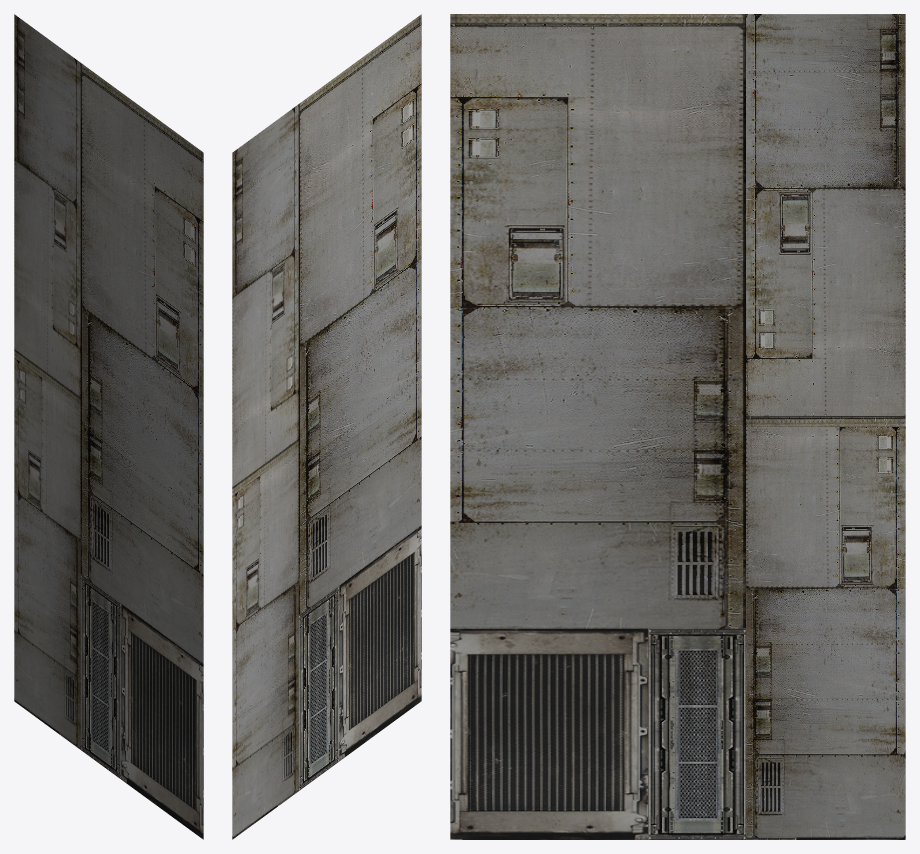
The model's file is Wall_J_Giant10mts_03.fbx.
3 renders of one model, left to right at view 1: azimuth 30°, elevation 25°; view 2: azimuth 150°, elevation 25°; view 3: azimuth 270°, elevation 25°, orthographic. The views are drawn at different scales.
Parts seen in each view (by area): view 1: Wall_J_Giant10mts_03; view 2: Wall_J_Giant10mts_03; view 3: Wall_J_Giant10mts_03.
Boxes of the visible parts, left/top/right/bottom form: Wall_J_Giant10mts_03: left=14, top=14, right=203, bottom=839; Wall_J_Giant10mts_03: left=232, top=14, right=421, bottom=839; Wall_J_Giant10mts_03: left=450, top=14, right=905, bottom=839.
Size of the model in its own units: 0.00195 by 2000 by 1000.
Materials: 1 (1 with a texture image).
